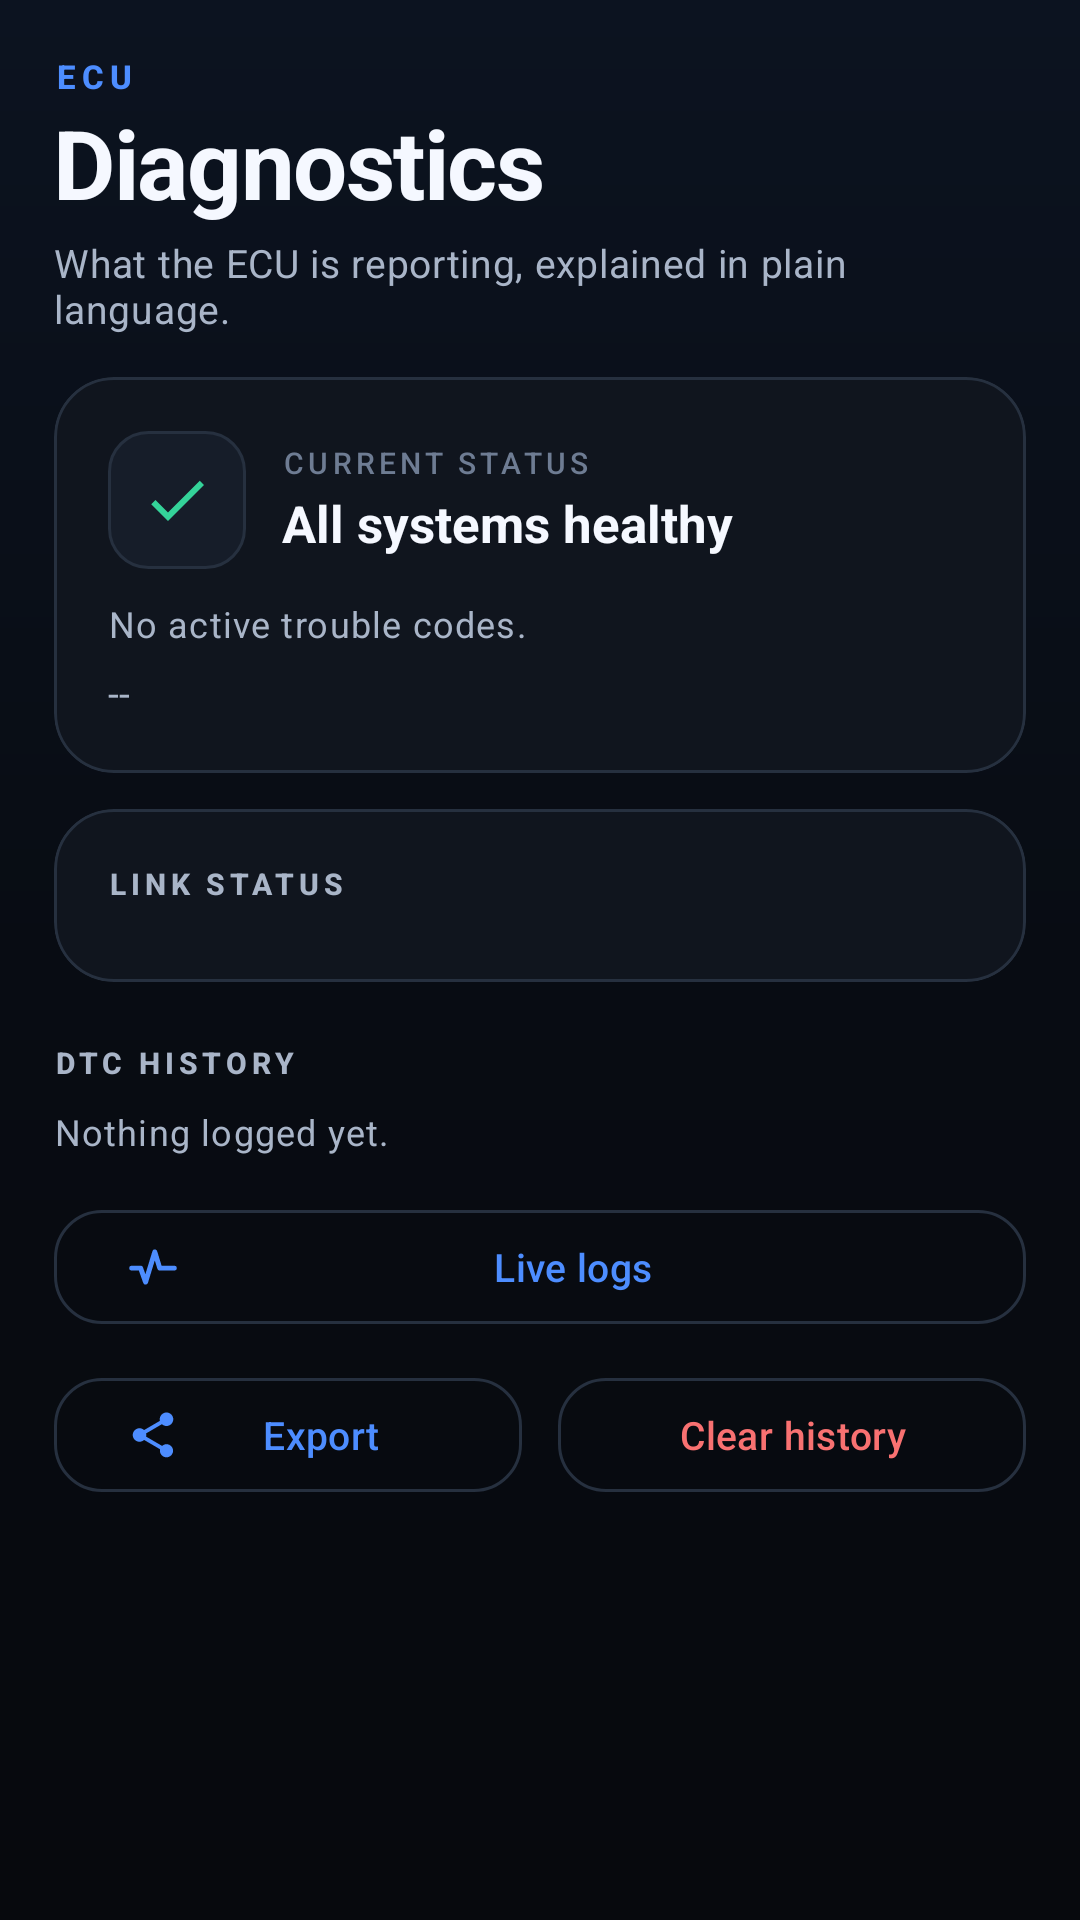

Icons on this 1080 × 1920 Android screen, each with the point to tap as point (x, y):
Diagnostics status: point (177, 501)
